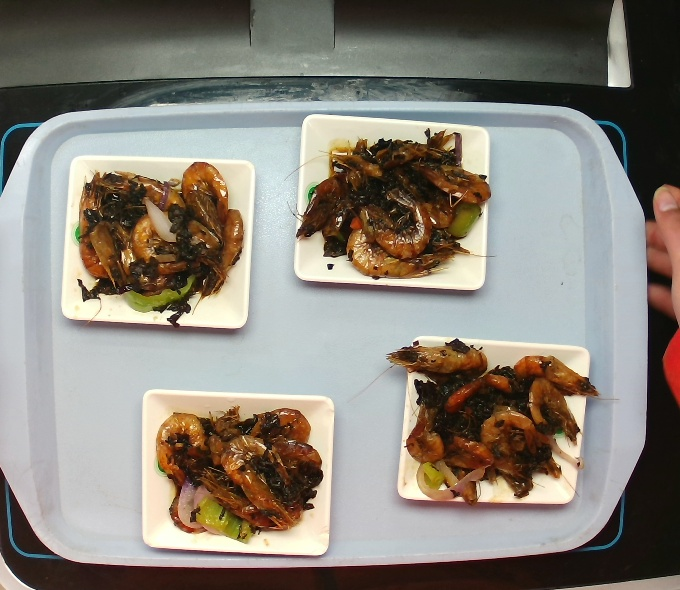wcq-GanCaiXia: (289, 117, 496, 287), (63, 158, 253, 325), (393, 347, 591, 499), (150, 387, 326, 549)
